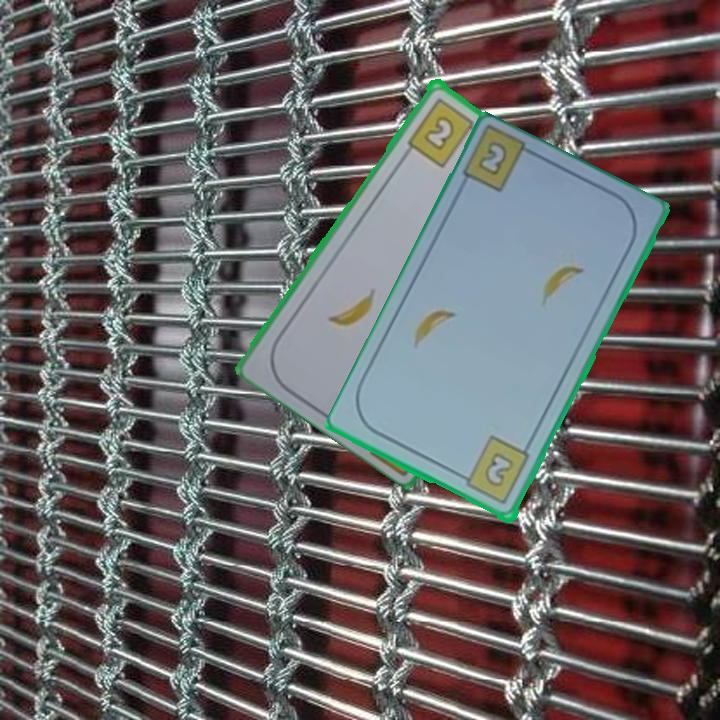2b: (403, 93, 483, 170), (455, 433, 533, 508), (474, 138, 511, 179)
